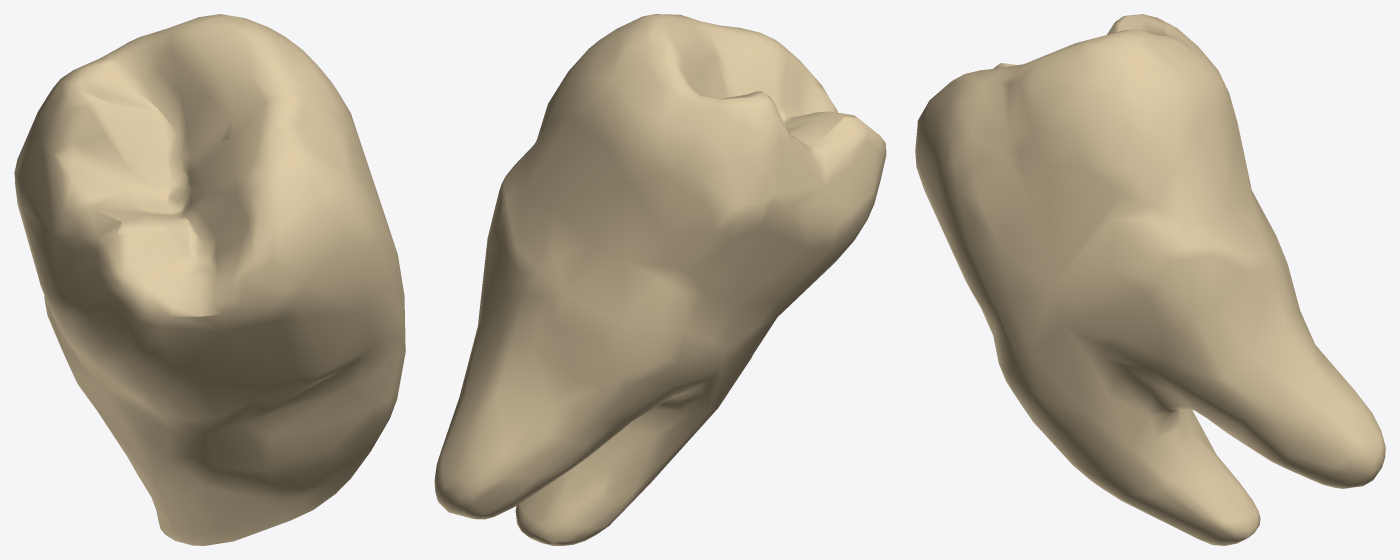
Rendered from tooth-38.glb.
3 views of the same model, side by side, from view 1: azimuth 30°, elevation 25°; view 2: azimuth 150°, elevation 25°; view 3: azimuth 270°, elevation 25° (orthographic). The views are drawn at different scales.
Parts seen in each view (by area): view 1: tooth-37; view 2: tooth-37; view 3: tooth-37.
Boxes of the visible parts, <box> form: tooth-37: <box>14,14,405,545</box>; tooth-37: <box>434,14,886,545</box>; tooth-37: <box>915,14,1385,545</box>.
Size of the model in its own units: 0.3025 by 0.4675 by 0.4125.
